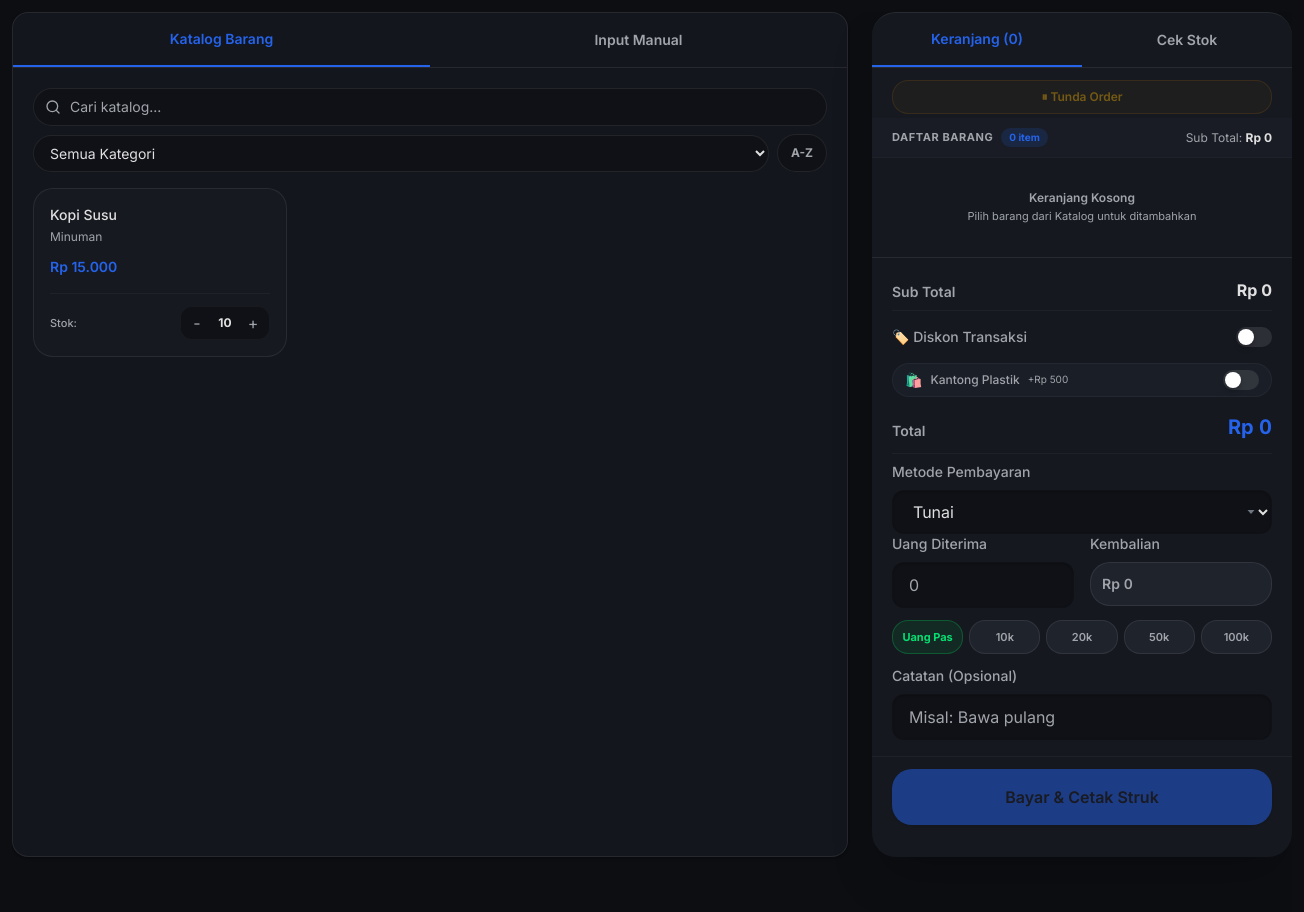
Test: InputPenjualan — Shopping Cart Flow › 3. Checkout gagal jika uang kurang
The width and height of the screenshot is (1304, 912).
Click the text "Kopi Susu" at (83, 214), box [50,206,117,223]
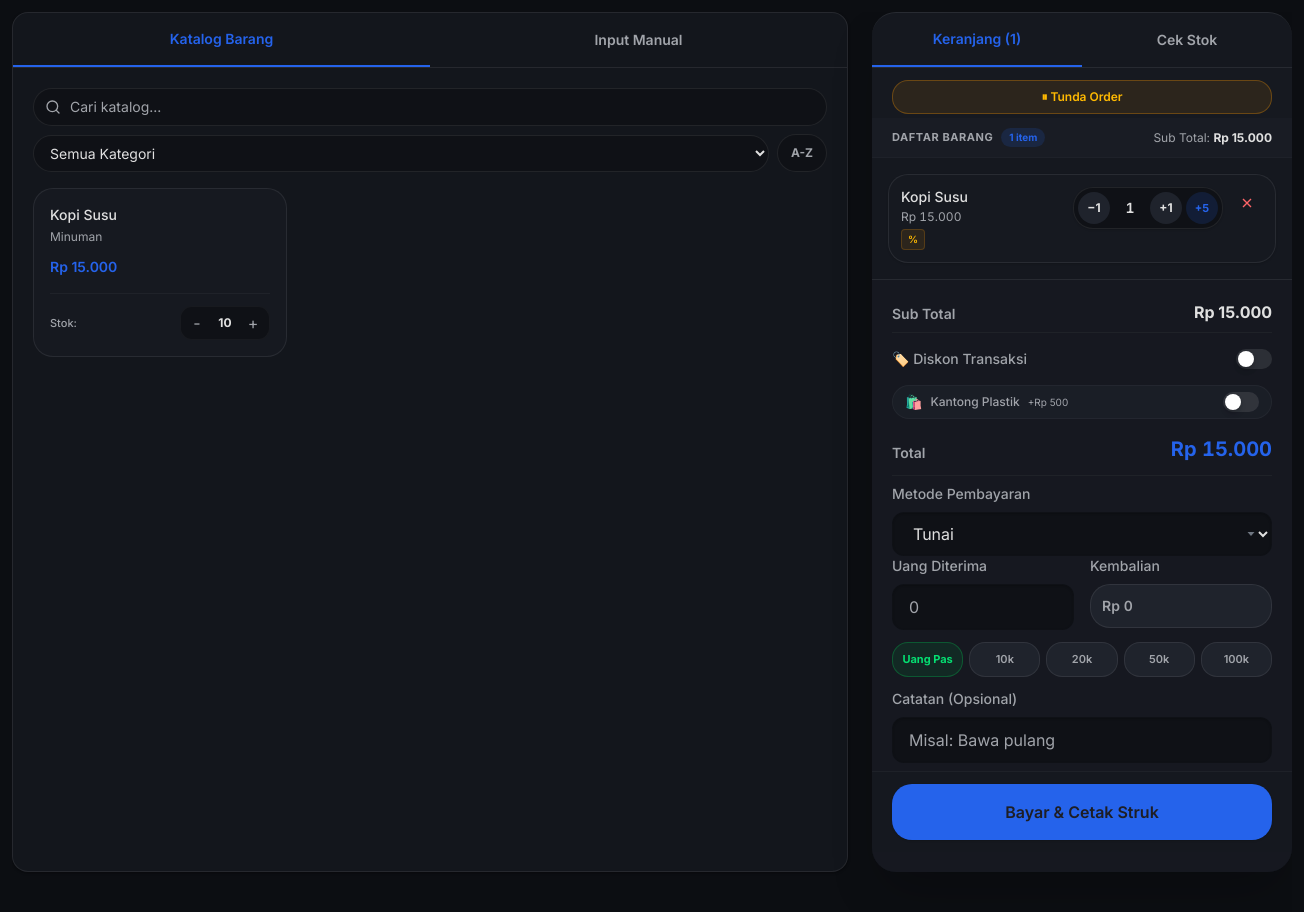
Type "10000" into the number field with placeholder "0" at (983, 607), box [892,584,1074,630]
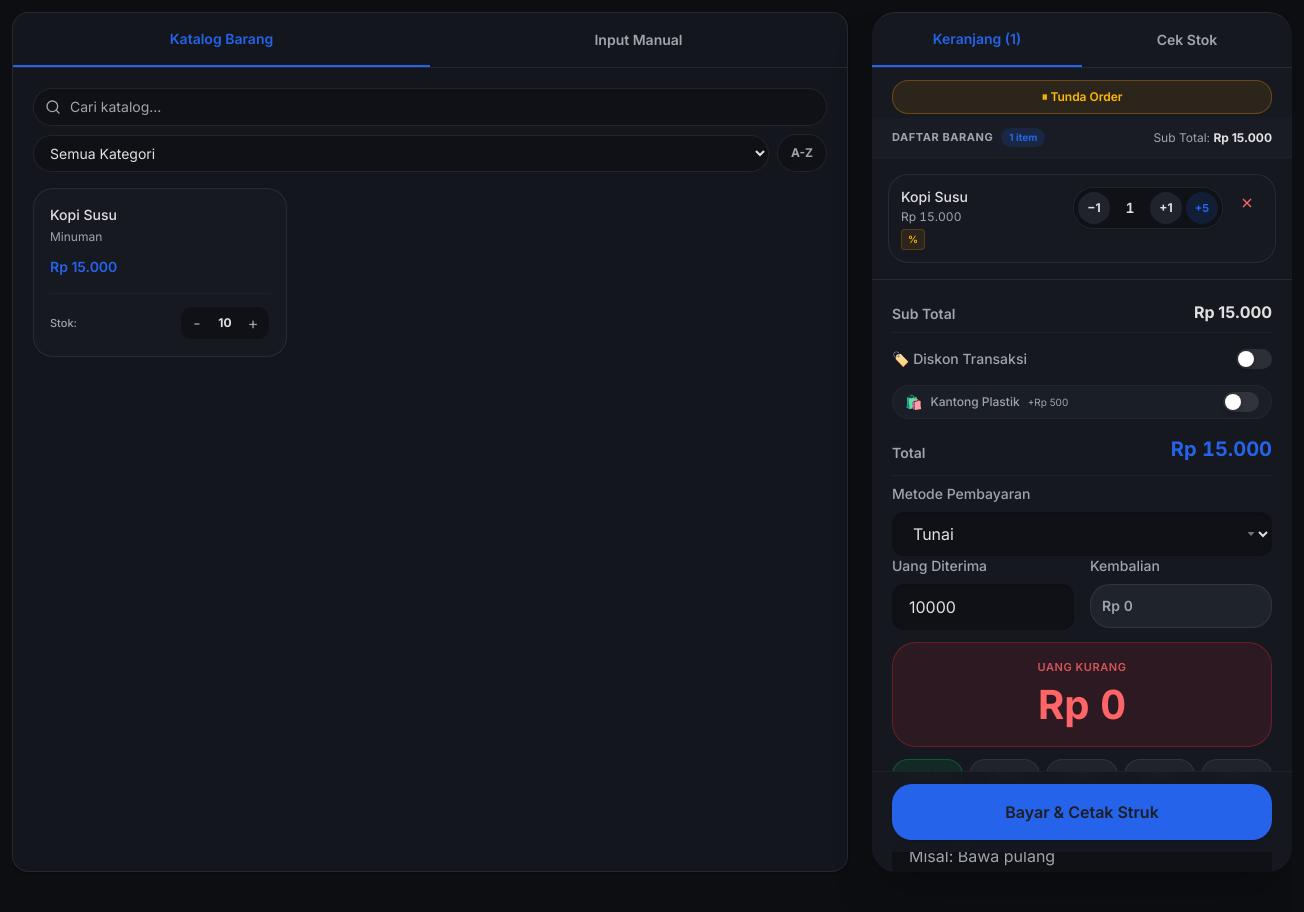
Click the button "Bayar & Cetak Struk" at (1082, 812), box [892,784,1272,840]
(page scrolled)
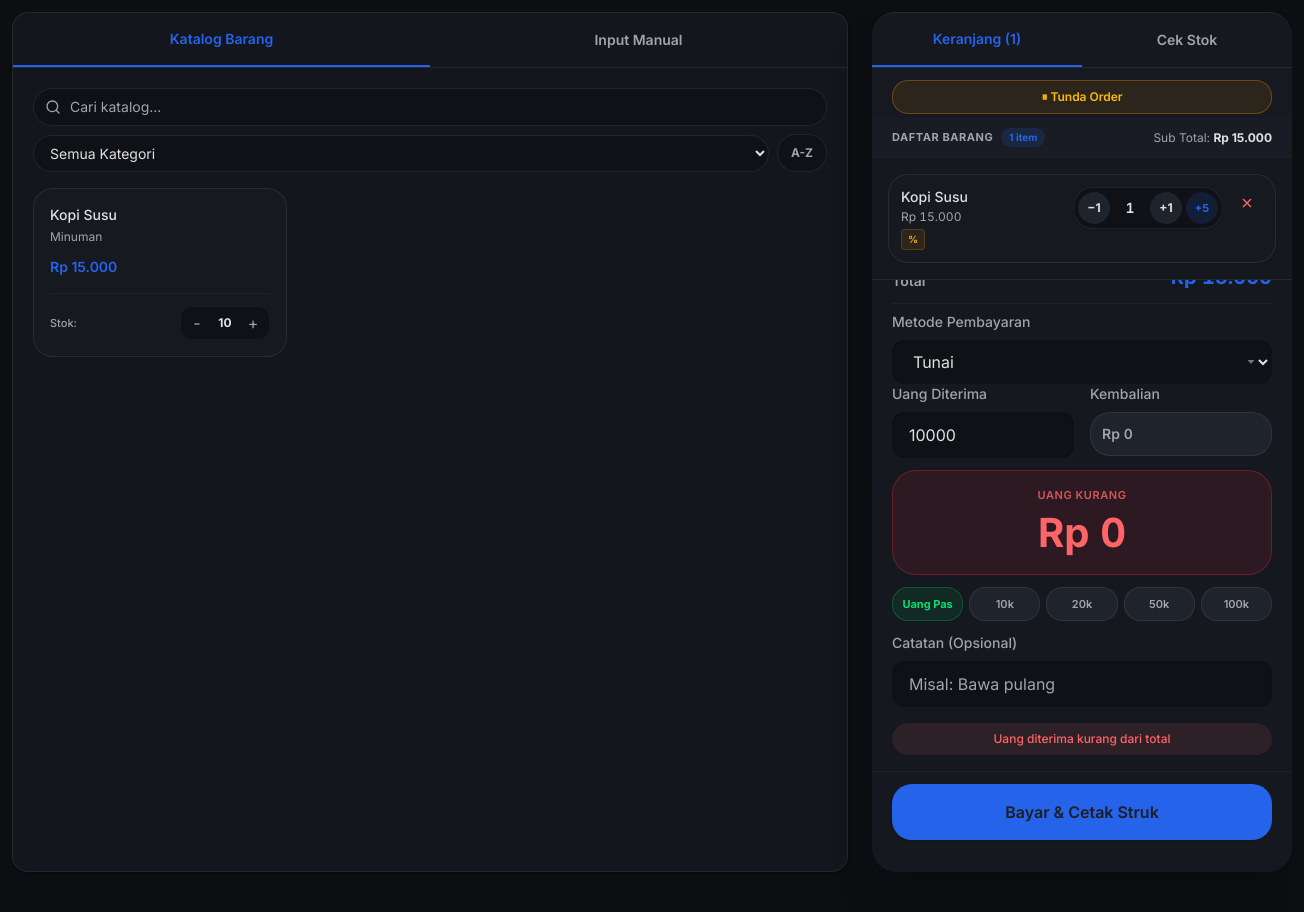
Expected: the text "Uang diterima kurang dari total" is shown, [892,723,1272,755]
